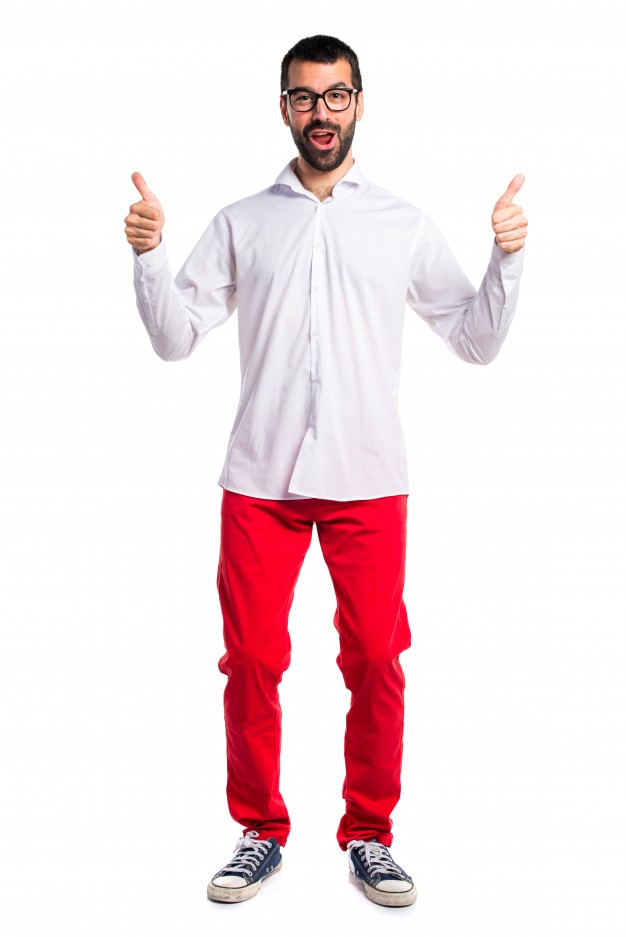thumbsup: (124, 172, 161, 250), (491, 174, 528, 252)
